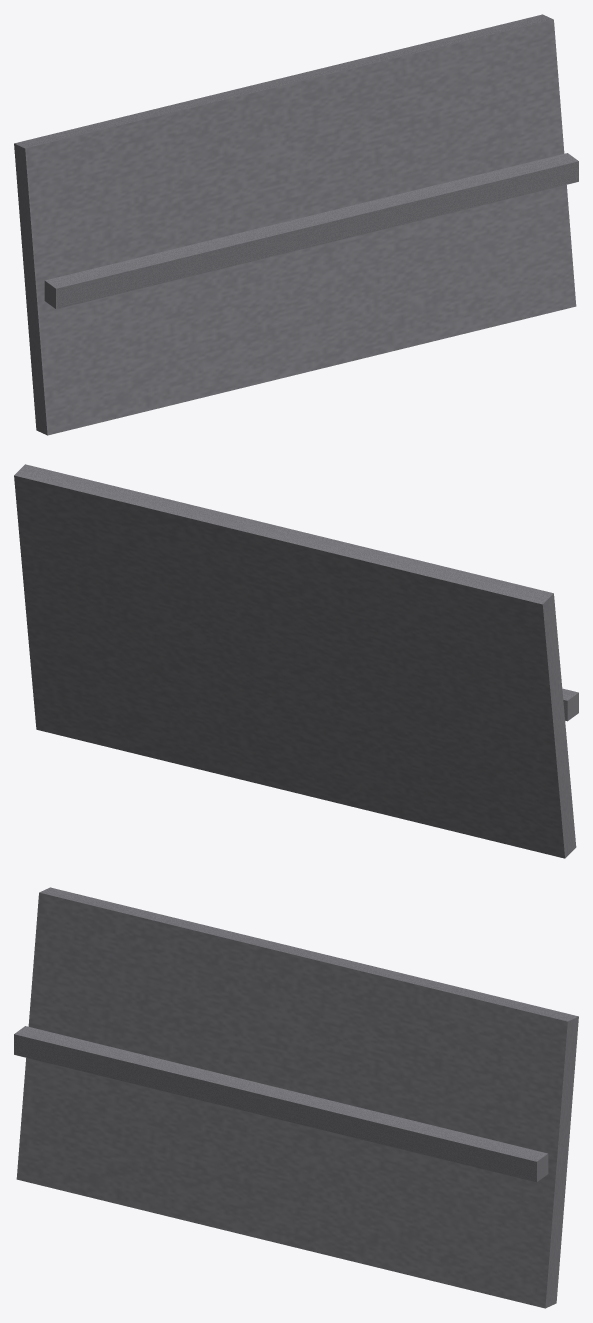
The picture shows the model from 3 angles, top to bottom: view 1: azimuth 30°, elevation 25°; view 2: azimuth 150°, elevation 25°; view 3: azimuth 330°, elevation 25°; orthographic projection.
Visible parts, largest first — view 1: roof_shed_lod0_run001; view 2: roof_shed_lod0_run001; view 3: roof_shed_lod0_run001.
Part boxes in pixels (x1=…): roof_shed_lod0_run001: x1=14, y1=14, x2=578, y2=435; roof_shed_lod0_run001: x1=14, y1=464, x2=578, y2=858; roof_shed_lod0_run001: x1=14, y1=887, x2=578, y2=1308.
Bounding box in the file's own units: 8.09 × 4 × 1.04.
Materials: 1 (1 with a texture image).
